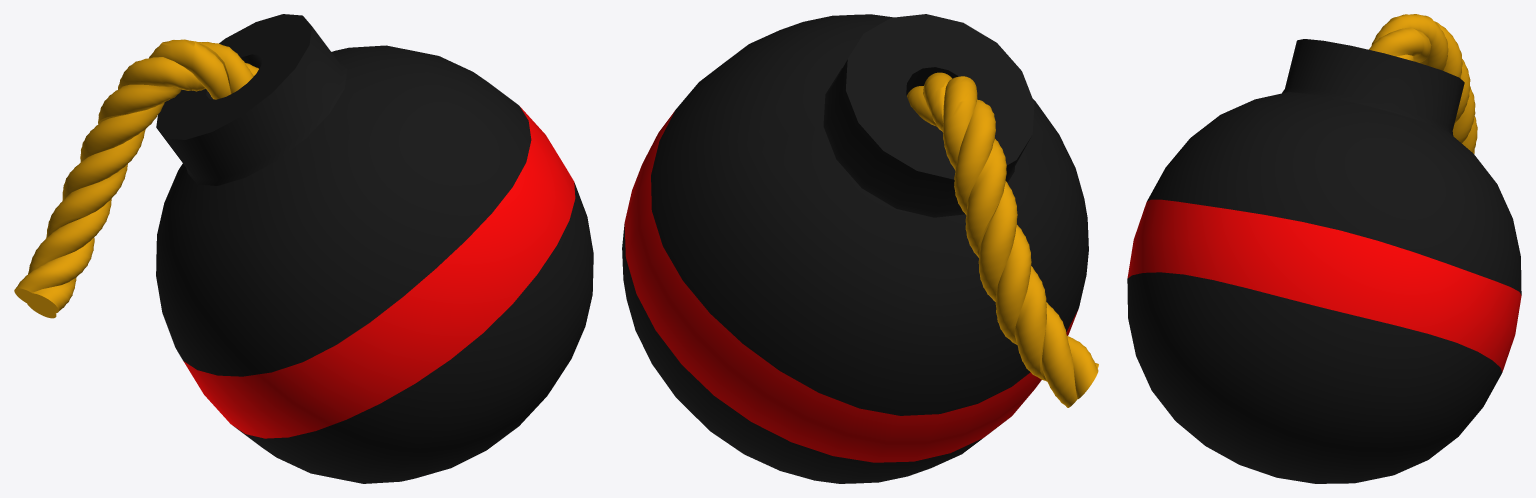
Rendered from bomb.glb.
3 renders of one model, left to right at view 1: azimuth 30°, elevation 25°; view 2: azimuth 150°, elevation 25°; view 3: azimuth 270°, elevation 25°, orthographic. The views are drawn at different scales.
Visible parts, largest first — view 1: Cube; view 2: Cube; view 3: Cube.
Part boxes in pixels (<box>): Cube: <box>14,14,593,483</box>; Cube: <box>622,14,1098,483</box>; Cube: <box>1127,14,1521,483</box>.
Bounding box in the file's own units: 0.4347 × 0.3785 × 0.3365.
